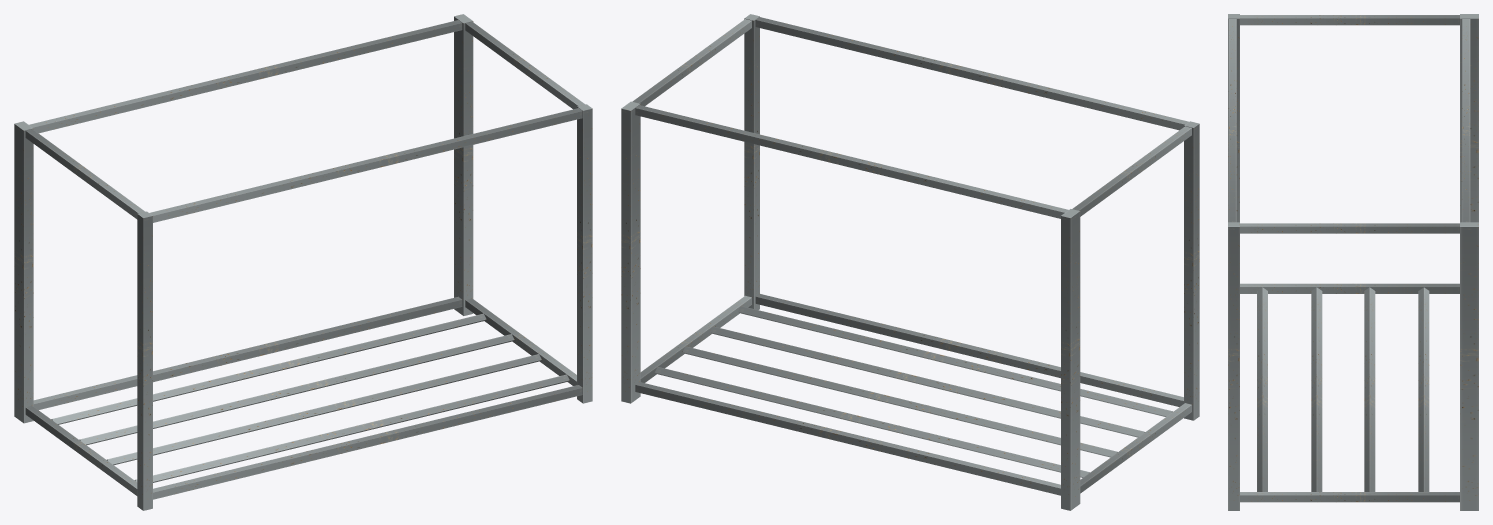
File: cabin09.fbx
3 renders of one model, left to right at view 1: azimuth 30°, elevation 25°; view 2: azimuth 150°, elevation 25°; view 3: azimuth 270°, elevation 25°, orthographic. The views are drawn at different scales.
Parts seen in each view (by area): view 1: cabin09; view 2: cabin09; view 3: cabin09.
Boxes of the visible parts, box(x1,y1,x2,y2) form: cabin09: box(14, 14, 592, 510); cabin09: box(621, 14, 1199, 510); cabin09: box(1228, 14, 1478, 510).
Size of the model in its own units: 92.93 by 57.84 by 46.29.
